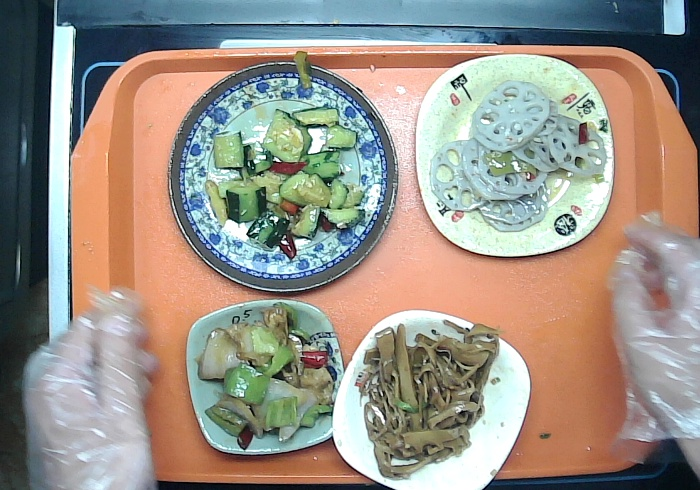NLDX-Bai_Se_Xiao_Fang_Die: (332, 310, 531, 490)
NLDX-Fu_Zi_Fang_Die: (415, 54, 616, 255)
NLDX-Qing_Hua_Xiao_Fang_Die: (184, 301, 345, 455)
NLDX-Qing_Hua_Yuan_Die: (167, 61, 400, 292)
